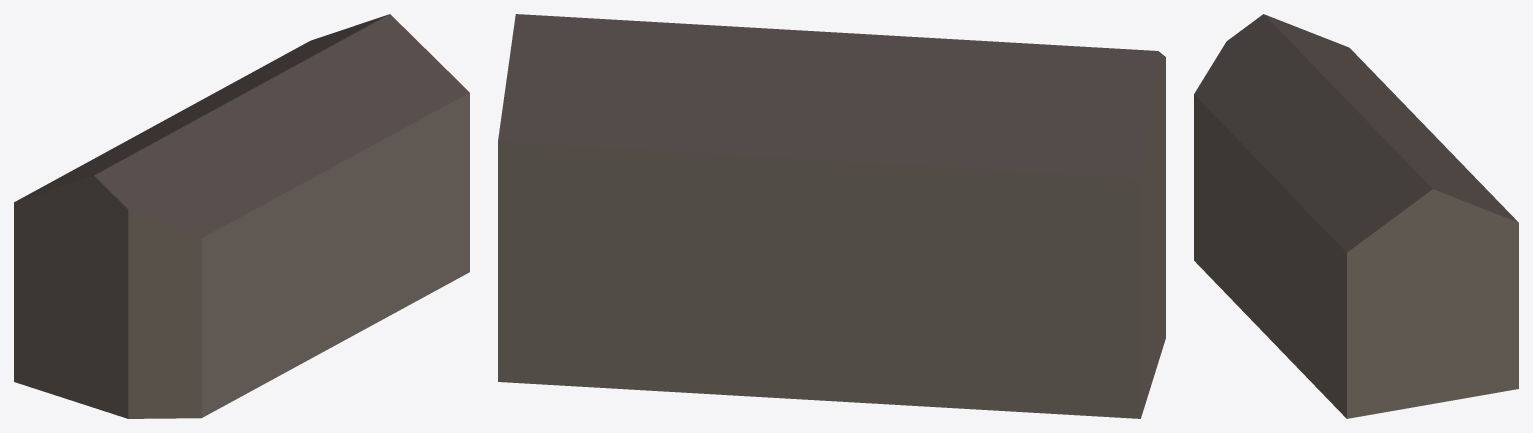
3 renders of one model, left to right at view 1: azimuth 30°, elevation 25°; view 2: azimuth 150°, elevation 25°; view 3: azimuth 270°, elevation 25°, orthographic. The views are drawn at different scales.
Parts seen in each view (by area): view 1: HP-w1198847859; view 2: HP-w1198847859; view 3: HP-w1198847859.
Boxes of the visible parts, left/top/right/bottom form: HP-w1198847859: left=14, top=14, right=469, bottom=418; HP-w1198847859: left=498, top=14, right=1165, bottom=418; HP-w1198847859: left=1194, top=14, right=1518, bottom=418.
Size of the model in its own units: 15.88 by 7.76 by 10.63.
